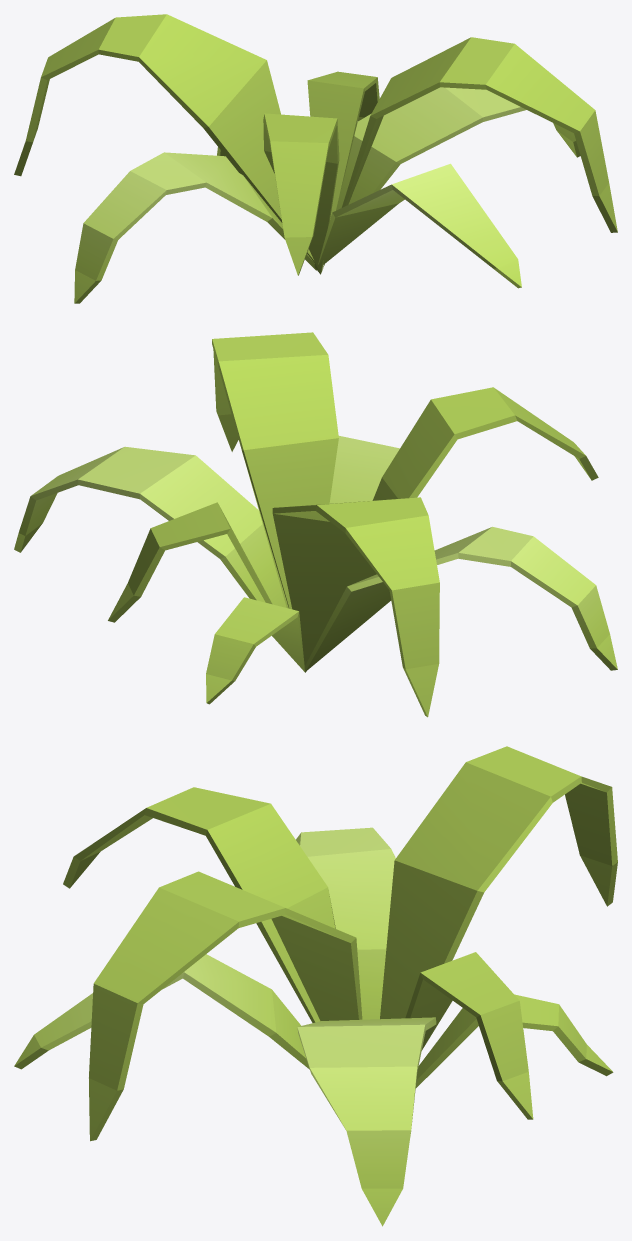
File: Plant1.fbx
The picture shows the model from 3 angles, top to bottom: view 1: azimuth 30°, elevation 25°; view 2: azimuth 150°, elevation 25°; view 3: azimuth 270°, elevation 25°; orthographic projection. The views are drawn at different scales.
Parts seen in each view (by area): view 1: Plant_1_Plane.004; view 2: Plant_1_Plane.004; view 3: Plant_1_Plane.004.
Part boxes in pixels (x1,y1,x2,y2): Plant_1_Plane.004: (14,14,617,303); Plant_1_Plane.004: (14,332,617,717); Plant_1_Plane.004: (14,746,617,1226).
Bounding box in the file's own units: 120 × 50.73 × 94.56.
